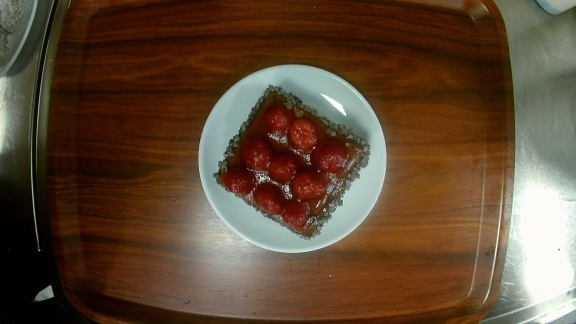cileklipasta: (196, 64, 388, 251)
